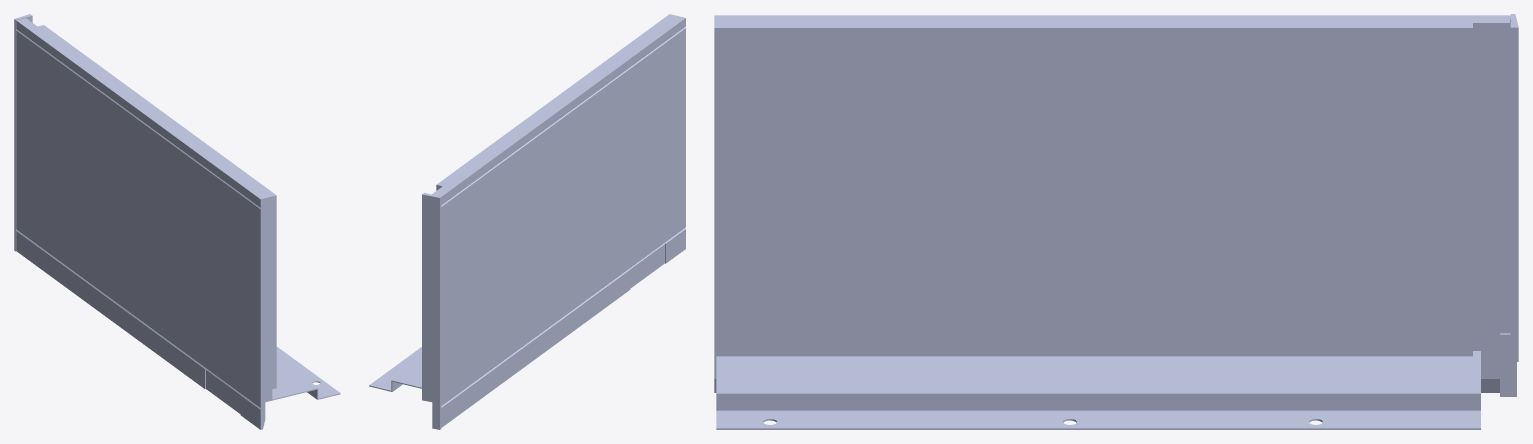
File: lg-kava-C350-p.glb
The picture shows the model from 3 angles, left to right: view 1: azimuth 30°, elevation 25°; view 2: azimuth 150°, elevation 25°; view 3: azimuth 270°, elevation 25°; orthographic projection. The views are drawn at different scales.
Visible parts, largest first — view 1: 43396724; view 2: 43396724; view 3: 43396724.
Boxes of the visible parts, left/top/right/bottom form: 43396724: left=14, top=14, right=340, bottom=429; 43396724: left=369, top=14, right=685, bottom=429; 43396724: left=714, top=14, right=1518, bottom=429.
Bounding box in the file's own units: 0.0653 × 0.1777 × 0.3435.
